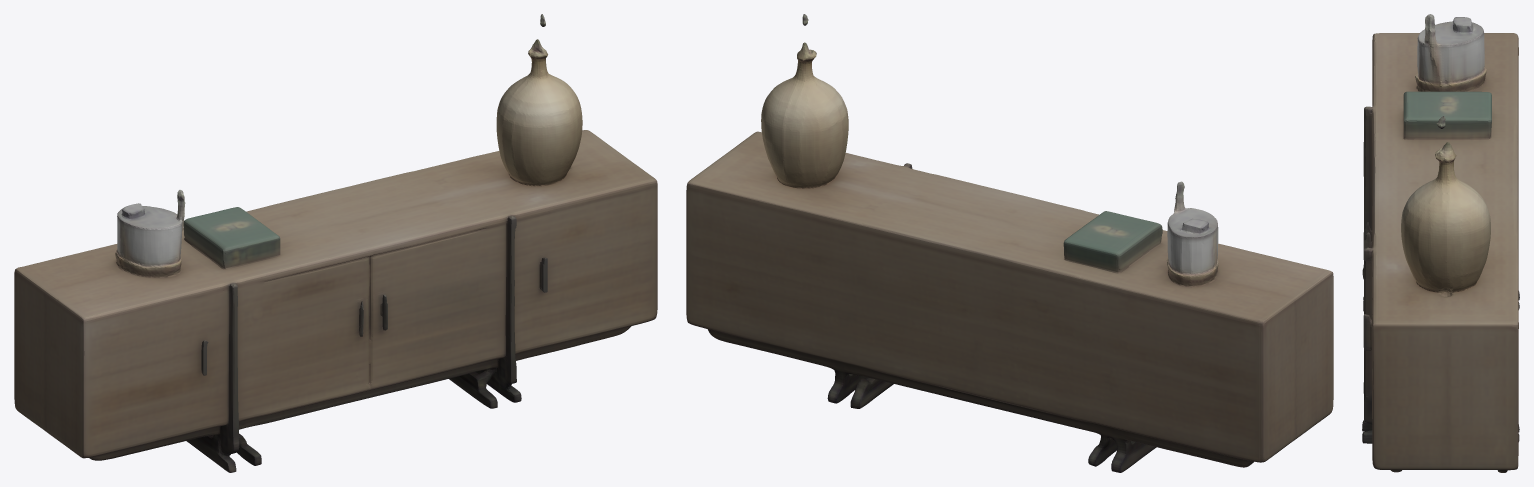
The model's file is ours.glb.
3 renders of one model, left to right at view 1: azimuth 30°, elevation 25°; view 2: azimuth 150°, elevation 25°; view 3: azimuth 270°, elevation 25°, orthographic. The views are drawn at different scales.
Parts seen in each view (by area): view 1: world; view 2: world; view 3: world.
Part boxes in pixels (x1,y1,x2,y2): world: (14,14,657,472); world: (686,14,1333,472); world: (1362,14,1519,472).
Bounding box in the file's own units: 1 × 0.5753 × 0.2289.
